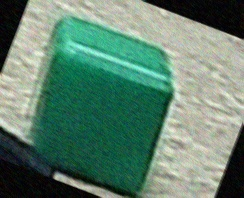green_cube: (29, 12, 192, 198)
